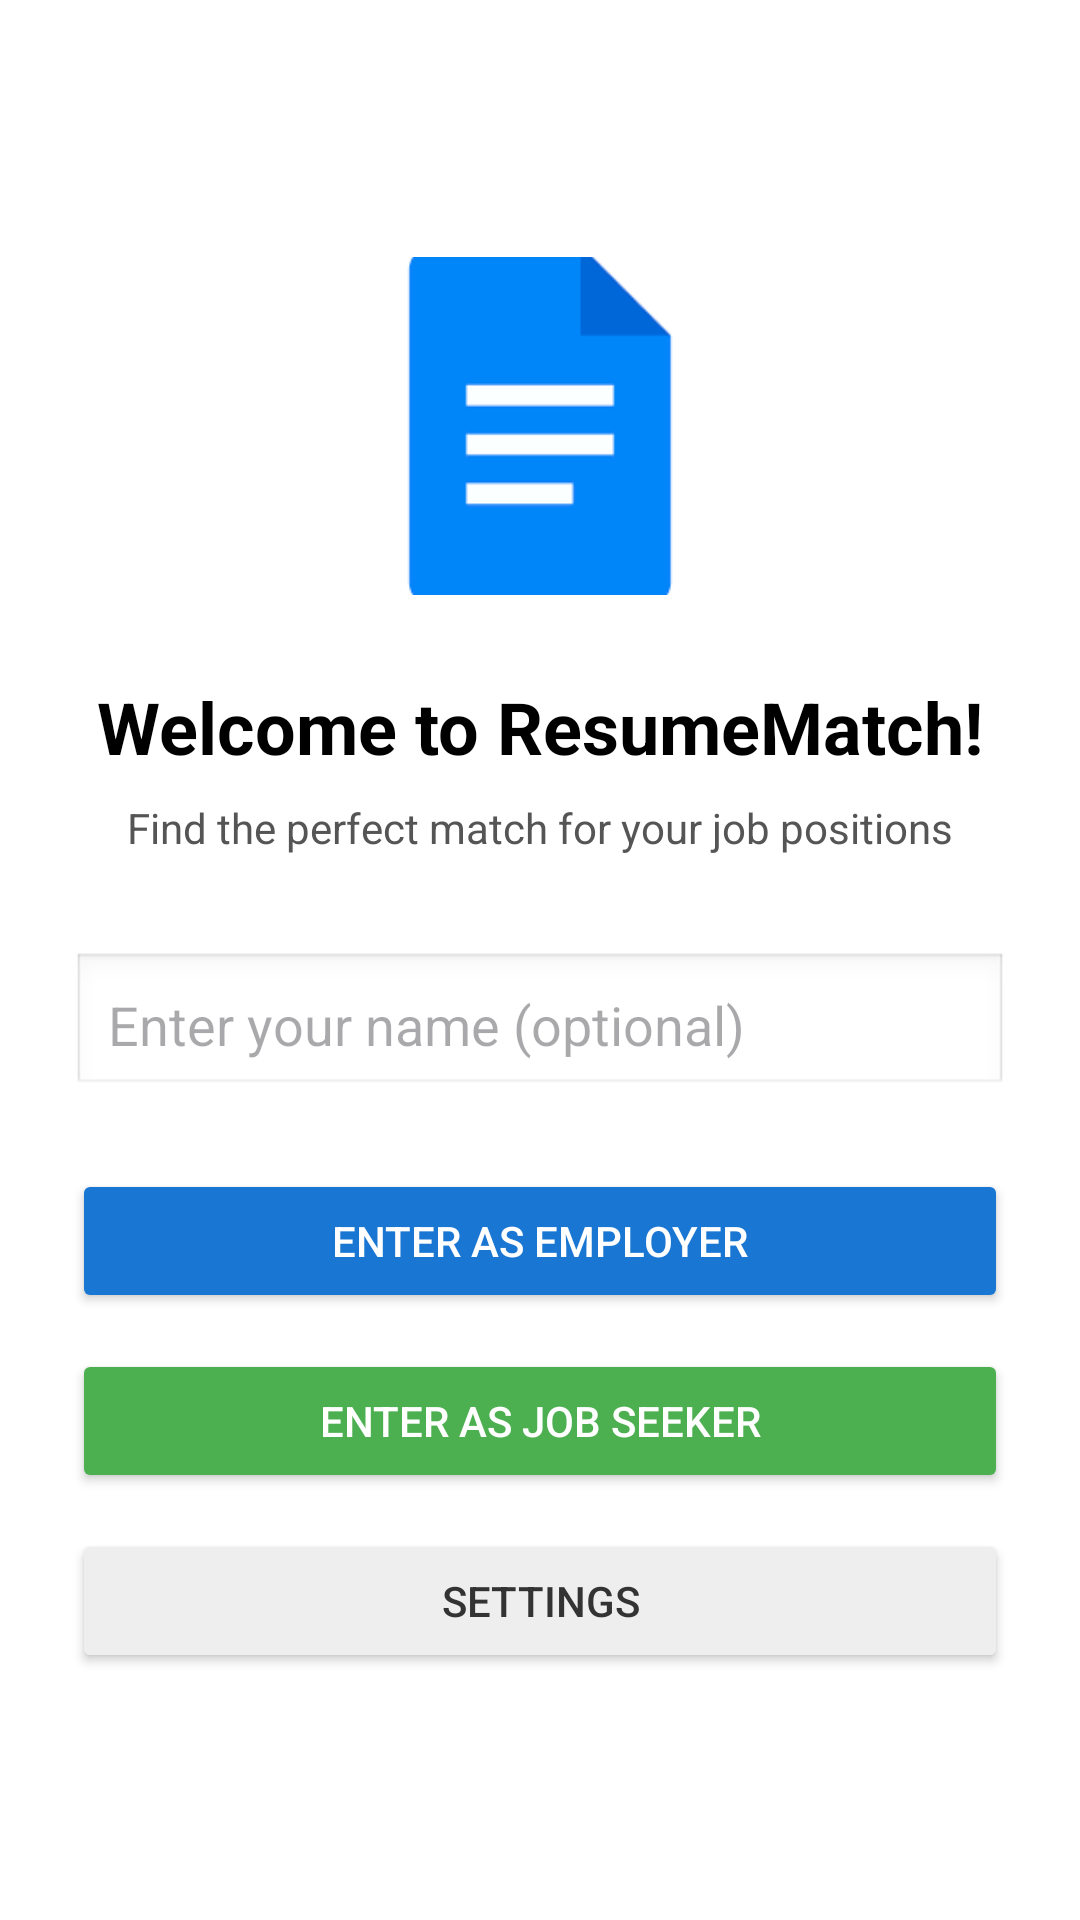

Where to tap for icons on this 1080*1920 app screen, as (x,y):
Resume icon: (540,426)
